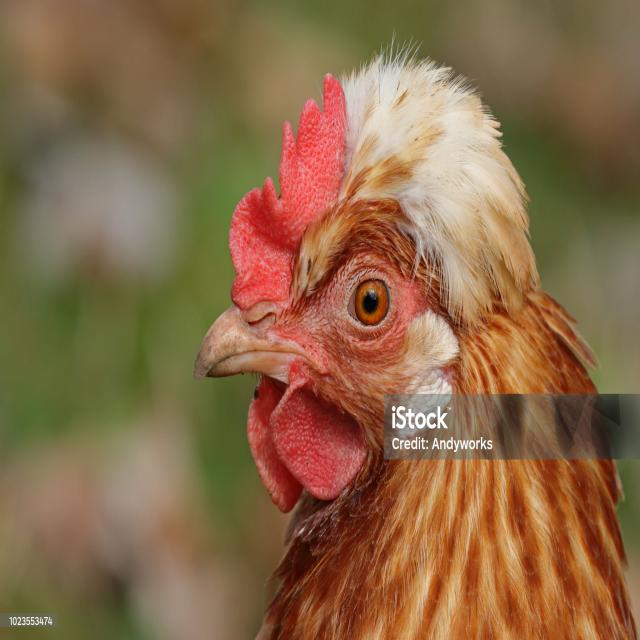Chicken: (171, 58, 634, 634)
